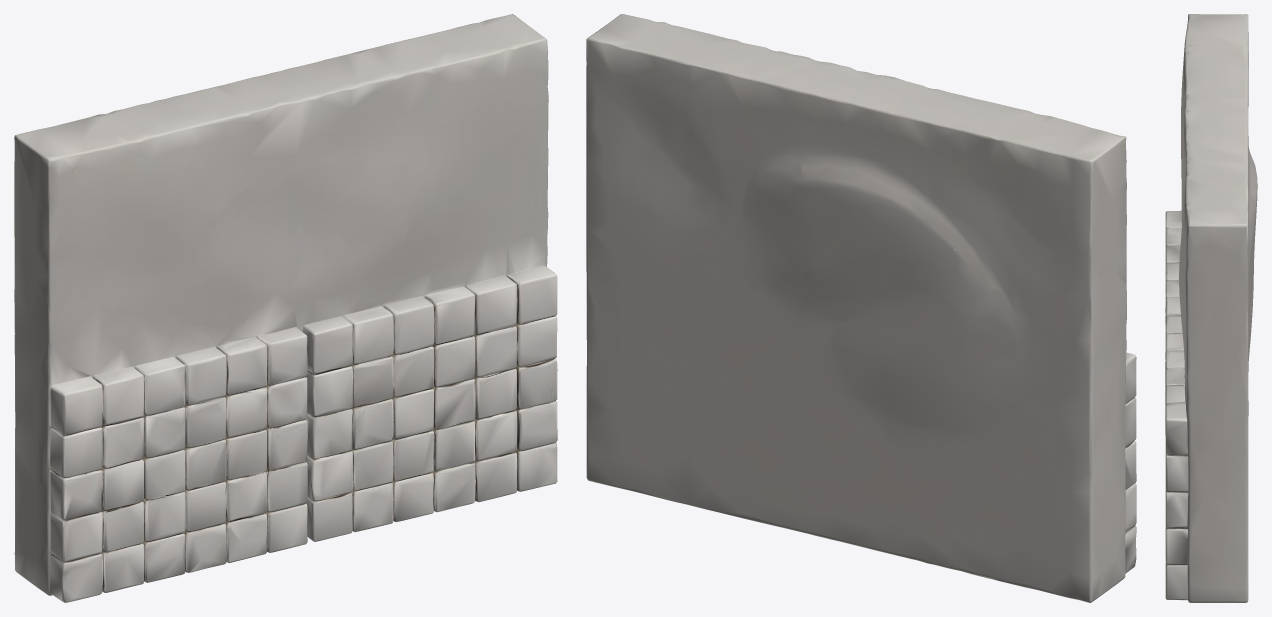
The model's file is decor_tile_panel_white_idle.glb.
3 views of the same model, side by side, from view 1: azimuth 30°, elevation 25°; view 2: azimuth 150°, elevation 25°; view 3: azimuth 270°, elevation 25° (orthographic). The views are drawn at different scales.
Parts seen in each view (by area): view 1: tripo_node_fcb6a0f6-e11c-4750-97a7-565d5e59fe47; view 2: tripo_node_fcb6a0f6-e11c-4750-97a7-565d5e59fe47; view 3: tripo_node_fcb6a0f6-e11c-4750-97a7-565d5e59fe47.
Part boxes in pixels (x1=…): tripo_node_fcb6a0f6-e11c-4750-97a7-565d5e59fe47: x1=14, y1=14, x2=557, y2=602; tripo_node_fcb6a0f6-e11c-4750-97a7-565d5e59fe47: x1=586, y1=14, x2=1136, y2=602; tripo_node_fcb6a0f6-e11c-4750-97a7-565d5e59fe47: x1=1165, y1=14, x2=1257, y2=602.
Size of the model in its own units: 1.2 by 0.9997 by 0.2201.
1 material, 1 textured.
